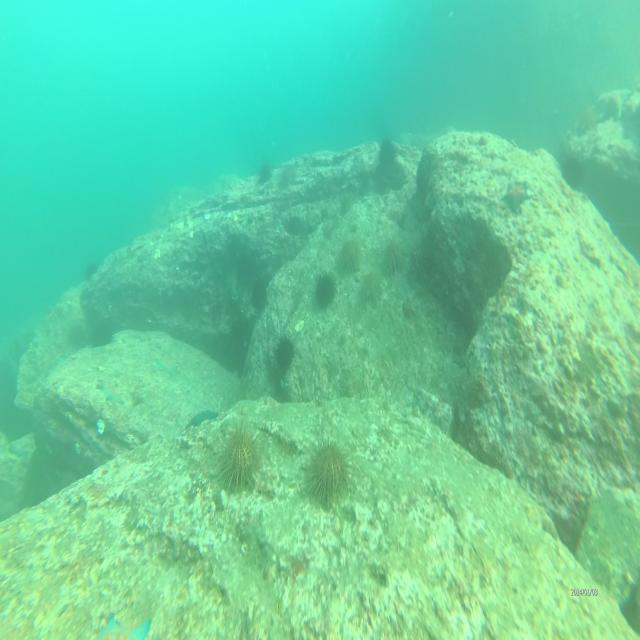echinus: (212, 423, 260, 501), (302, 438, 352, 510), (334, 234, 366, 277), (270, 329, 297, 376), (312, 264, 338, 311), (382, 236, 409, 275), (360, 268, 386, 308), (378, 136, 399, 175), (279, 161, 299, 186), (258, 160, 272, 188)
starfish: (94, 609, 152, 640), (501, 178, 531, 213)
